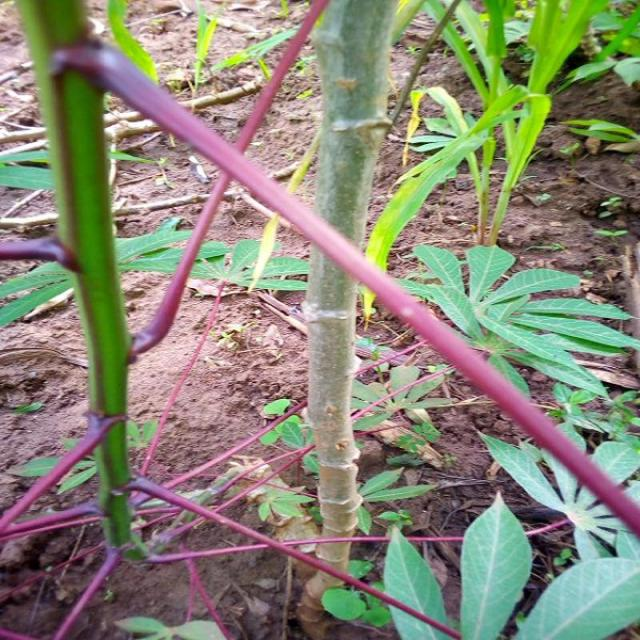cassava leaf: (458, 489, 532, 638), (382, 524, 448, 639)
